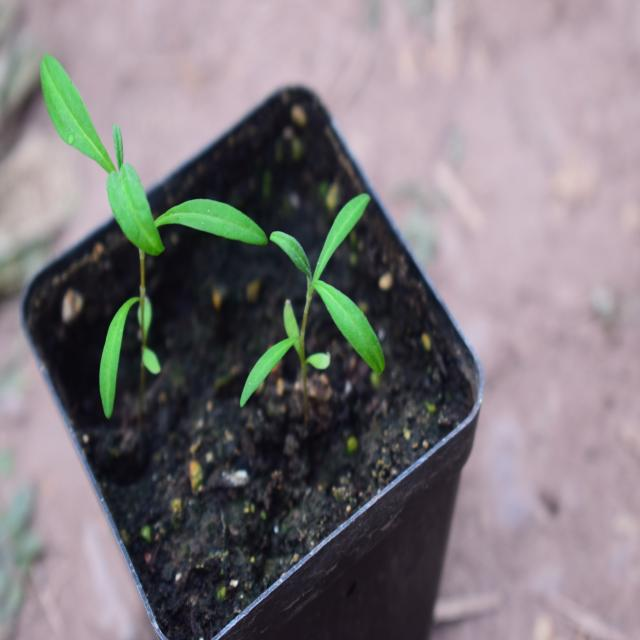white_smart_weed: (32, 58, 254, 414), (257, 175, 404, 444)
